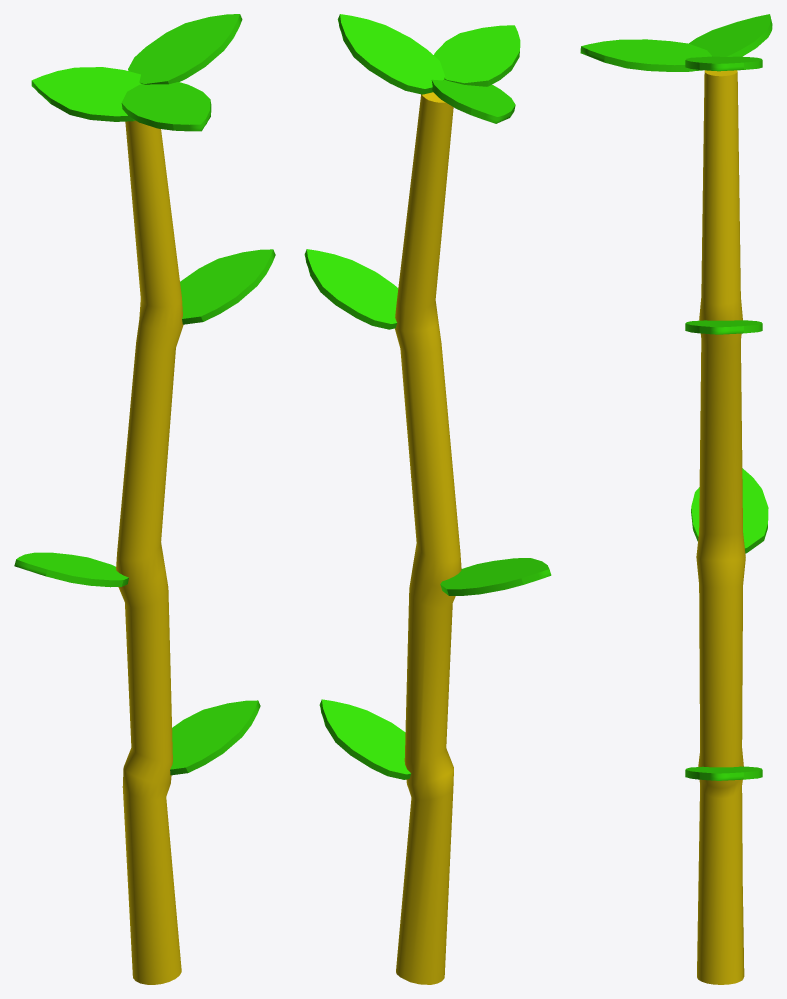
File: bamboofbx.fbx
3 views of the same model, side by side, from view 1: azimuth 30°, elevation 25°; view 2: azimuth 150°, elevation 25°; view 3: azimuth 270°, elevation 25° (orthographic).
Visible parts, largest first — view 1: pCube8; view 2: pCube8; view 3: pCube8.
Boxes of the visible parts, bbox=[...] form: pCube8: bbox=[14, 14, 275, 984]; pCube8: bbox=[304, 14, 551, 984]; pCube8: bbox=[580, 14, 772, 984].
Bounding box in the file's own units: 4.78 × 16.96 × 3.08.
